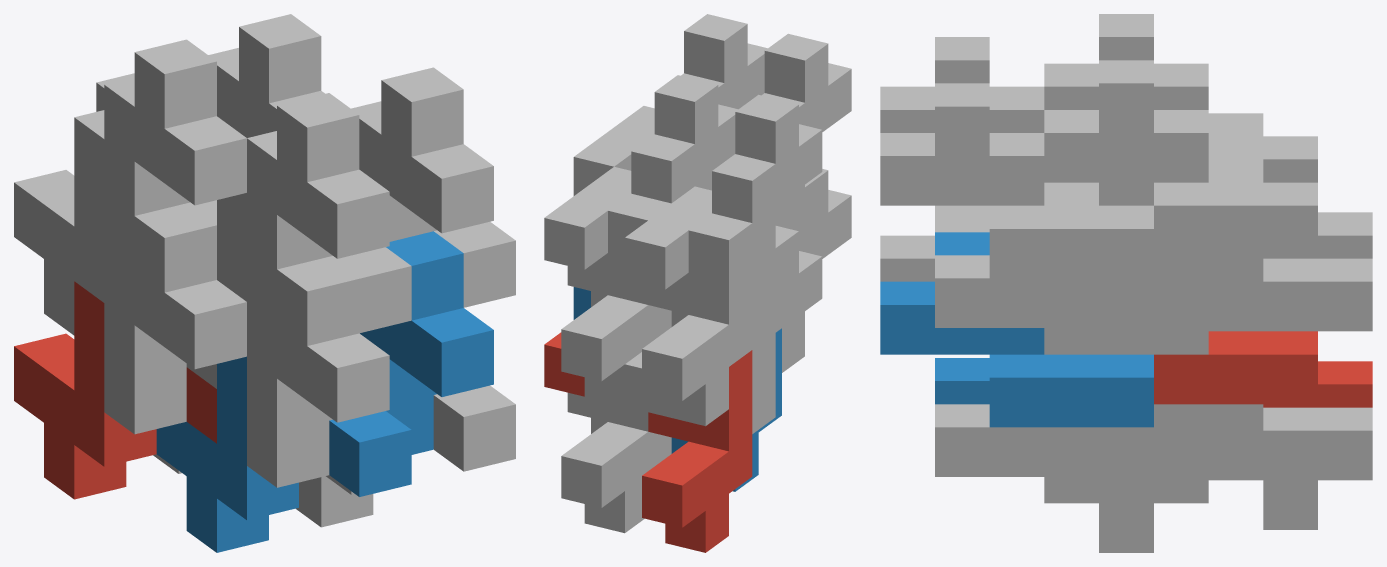
File: tiling.obj
3 renders of one model, left to right at view 1: azimuth 30°, elevation 25°; view 2: azimuth 150°, elevation 25°; view 3: azimuth 270°, elevation 25°, orthographic. The views are drawn at different scales.
Visible parts, largest first — view 1: copy_2_domain_1, copy_2_domain_2, copy_2_domain_3, copy_2_domain_4, copy_1_domain_2, copy_1_domain_1, copy_2_domain_8, copy_2_domain_6, copy_1_domain_3, copy_2_domain_7, copy_1_domain_6, copy_1_domain_4 (+1 smaller); view 2: copy_2_domain_3, copy_1_domain_3, copy_2_domain_7, copy_1_domain_1, copy_1_domain_7, copy_1_domain_5, copy_2_domain_8, copy_2_domain_1, copy_2_domain_4, copy_2_domain_2, copy_2_domain_5, copy_1_domain_2 (+1 smaller); view 3: copy_2_domain_8, copy_2_domain_7, copy_2_domain_6, copy_1_domain_5, copy_1_domain_6, copy_1_domain_7, copy_1_domain_8, copy_2_domain_3, copy_2_domain_5, copy_2_domain_4, copy_1_domain_3, copy_1_domain_1 (+3 smaller).
Boxes of the visible parts, bbox=[...] form: copy_2_domain_1: bbox=[104, 203, 246, 434]; copy_2_domain_2: bbox=[247, 257, 389, 487]; copy_2_domain_3: bbox=[96, 39, 246, 270]; copy_2_domain_4: bbox=[247, 93, 389, 323]; copy_1_domain_2: bbox=[156, 356, 411, 552]; copy_1_domain_1: bbox=[14, 281, 216, 499]; copy_2_domain_8: bbox=[351, 67, 493, 241]; copy_2_domain_6: bbox=[360, 231, 493, 454]; copy_1_domain_3: bbox=[14, 110, 216, 335]; copy_2_domain_7: bbox=[208, 14, 324, 137]; copy_1_domain_6: bbox=[296, 385, 515, 527]; copy_1_domain_4: bbox=[186, 193, 411, 388]; copy_2_domain_3: bbox=[625, 94, 822, 307]; copy_1_domain_3: bbox=[642, 213, 752, 426]; copy_2_domain_7: bbox=[544, 75, 737, 269]; copy_1_domain_1: bbox=[642, 350, 752, 552]; copy_1_domain_7: bbox=[561, 193, 671, 406]; copy_1_domain_5: bbox=[561, 392, 671, 533]; copy_2_domain_8: bbox=[573, 14, 767, 195]; copy_2_domain_1: bbox=[625, 226, 822, 433]; copy_2_domain_4: bbox=[695, 33, 851, 233]; copy_2_domain_2: bbox=[782, 169, 851, 372]; copy_2_domain_5: bbox=[544, 332, 584, 396]; copy_1_domain_2: bbox=[671, 328, 781, 491]; copy_2_domain_8: bbox=[880, 83, 1153, 278]; copy_2_domain_7: bbox=[1044, 60, 1317, 255]; copy_2_domain_6: bbox=[880, 232, 1153, 427]; copy_1_domain_5: bbox=[1099, 404, 1372, 529]; copy_1_domain_6: bbox=[935, 404, 1208, 552]; copy_1_domain_7: bbox=[1099, 159, 1372, 331]; copy_1_domain_8: bbox=[935, 182, 1208, 354]; copy_2_domain_3: bbox=[1044, 14, 1317, 182]; copy_2_domain_5: bbox=[1154, 331, 1317, 404]; copy_2_domain_4: bbox=[880, 37, 1153, 205]; copy_1_domain_3: bbox=[1208, 113, 1372, 258]; copy_1_domain_1: bbox=[1263, 361, 1372, 407].
Bounding box in the file's own units: 5 × 9 × 9.
